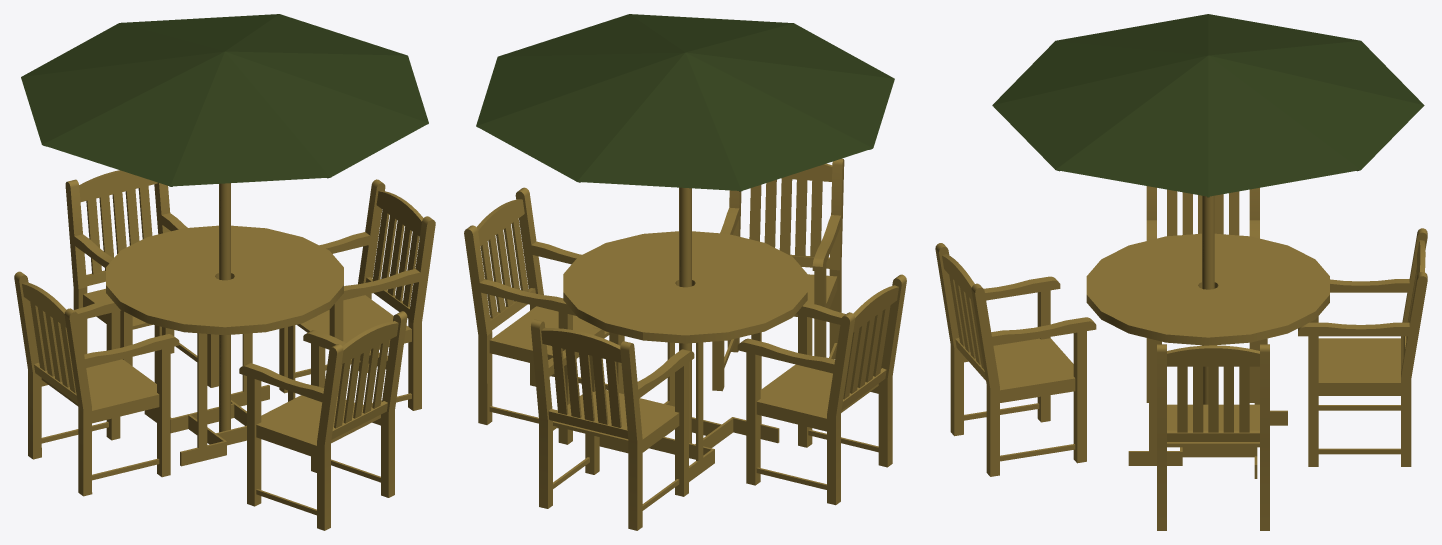
The model's file is GreenUmbrella.fbx.
The picture shows the model from 3 angles, left to right: view 1: azimuth 30°, elevation 25°; view 2: azimuth 150°, elevation 25°; view 3: azimuth 270°, elevation 25°; orthographic projection. The views are drawn at different scales.
Visible parts, largest first — view 1: Model, Chair4, Side6, Side7, Chair3, Chair1, Chair2, Side1, Side5, Side8, Side4, Side2 (+5 smaller); view 2: Model, Chair2, Side5, Chair3, Side4, Chair1, Side2, Chair4, Side6, Side3, Side7, Side1 (+5 smaller); view 3: Model, Chair1, Side8, Side3, Chair4, Chair2, Side7, Side4, Chair3, Side1, Side2, Leg2 (+3 smaller).
Part boxes in pixels (x1,y1,x2,y2): Model: (21,14,428,432); Chair4: (256,321,398,449); Side6: (64,308,179,496); Side7: (239,344,343,530); Chair3: (22,282,159,414); Chair1: (297,190,423,342); Chair2: (79,170,157,329); Side1: (329,216,435,410); Side5: (14,271,120,459); Side8: (303,311,407,497); Side4: (65,179,132,365); Side2: (279,179,385,393); Model: (476,14,894,443); Chair2: (541,328,679,443); Side5: (737,312,855,505); Chair3: (756,285,898,422); Side4: (620,341,694,530); Chair1: (476,199,609,358); Side2: (464,225,576,444); Chair4: (749,163,837,316); Side6: (796,274,906,467); Side3: (531,319,604,508); Side7: (812,158,844,359); Side1: (515,187,624,393); Model: (992,14,1424,404); Chair1: (1167,345,1259,447); Side8: (971,283,1096,476); Side3: (1298,272,1427,466); Chair4: (942,254,1075,393); Chair2: (1318,240,1425,386); Side7: (935,243,1060,436); Side4: (1310,228,1427,410); Chair3: (1167,189,1239,236); Side1: (1157,344,1166,530); Side2: (1260,344,1269,530); Leg2: (1128,338,1182,465).
Size of the model in its own units: 2.16 by 2.12 by 2.43.
